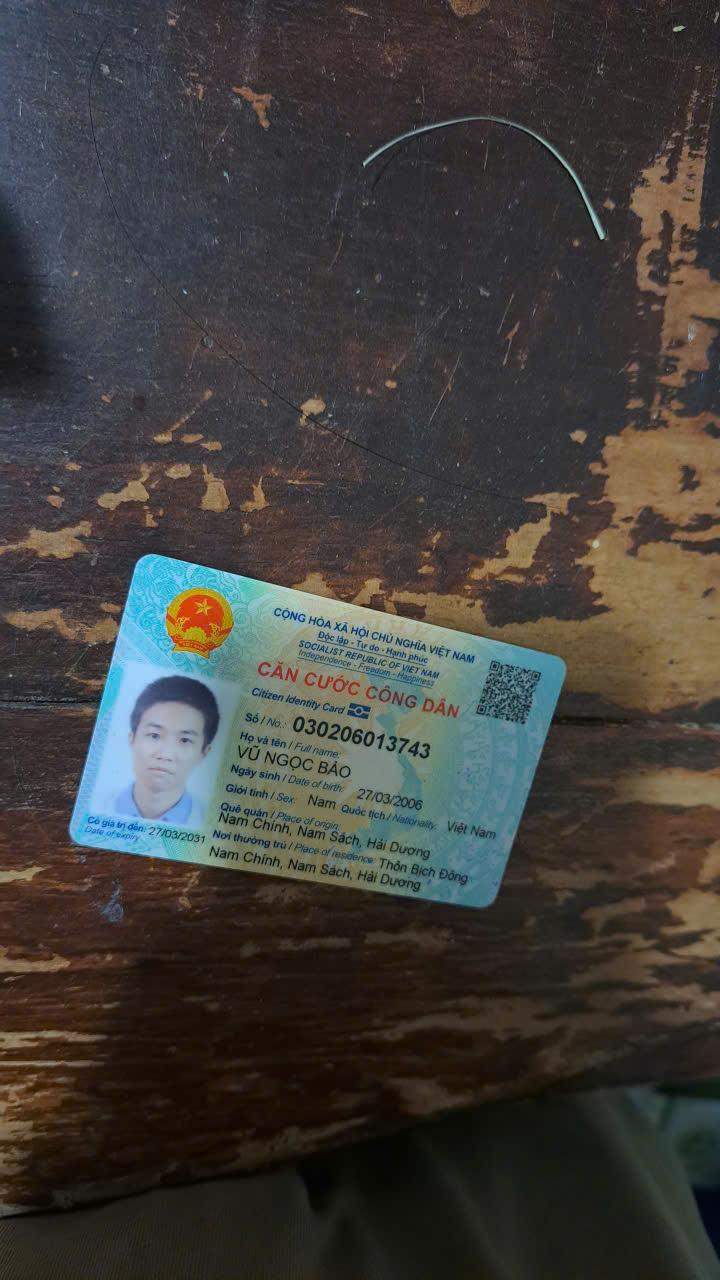cccd: (58, 541, 570, 922)
